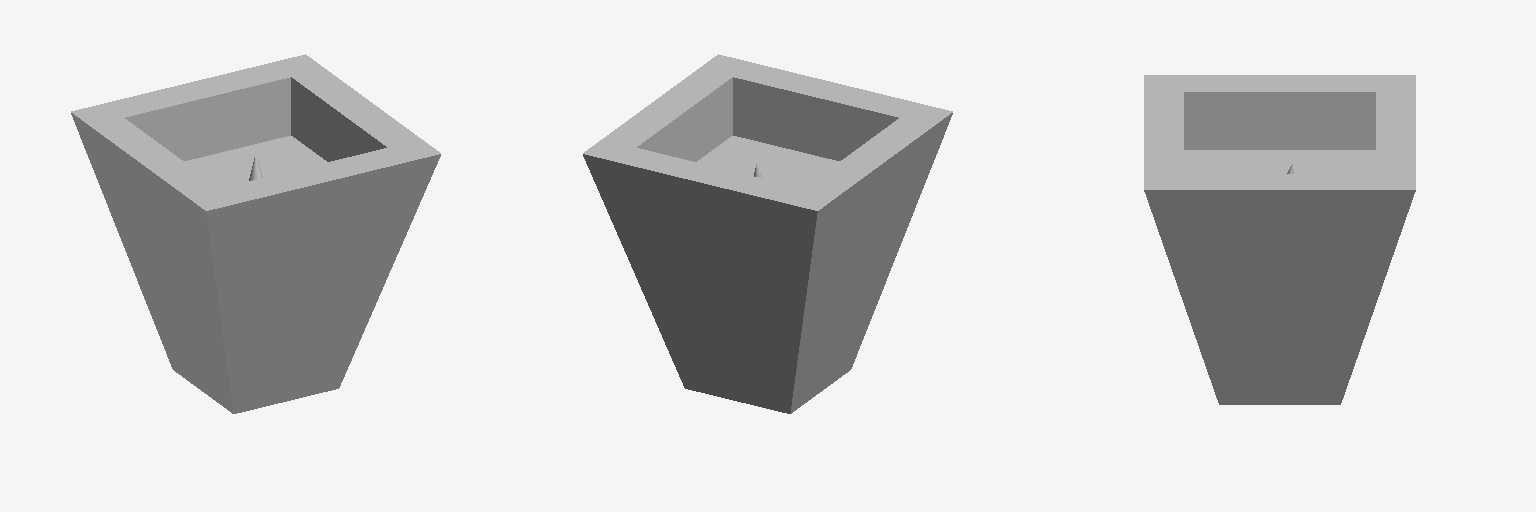
File: prantinha 01_000001.obj
3 renders of one model, left to right at view 1: azimuth 30°, elevation 25°; view 2: azimuth 150°, elevation 25°; view 3: azimuth 270°, elevation 25°, orthographic.
Parts seen in each view (by area): view 1: Cube; view 2: Cube; view 3: Cube.
Boxes of the visible parts, x1=… form: Cube: x1=71, y1=54, x2=440, y2=413; Cube: x1=583, y1=54, x2=952, y2=413; Cube: x1=1144, y1=75, x2=1415, y2=404.
Bounding box in the file's own units: 1.04 × 1.04 × 1.04.